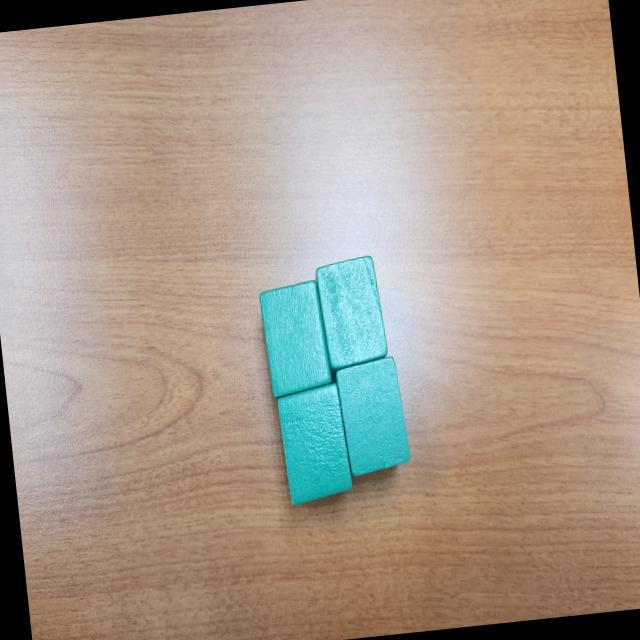green: (333, 356, 413, 479), (276, 380, 354, 504), (256, 278, 336, 396), (313, 254, 389, 374)
